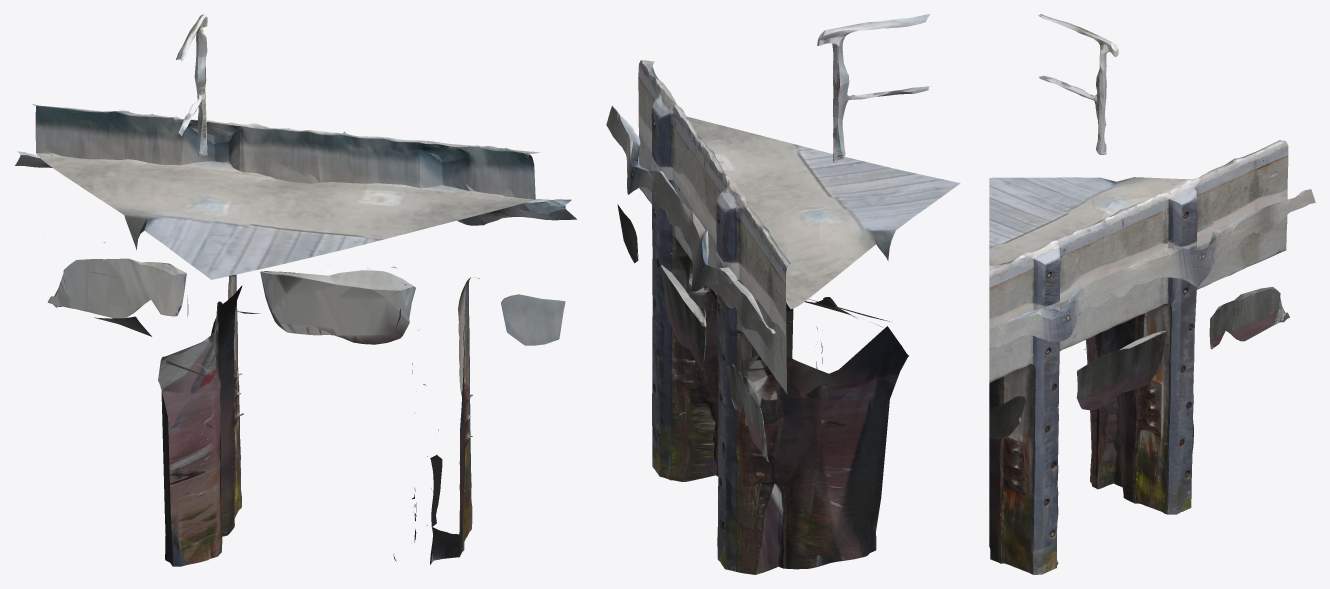
The picture shows the model from 3 angles, left to right: view 1: azimuth 30°, elevation 25°; view 2: azimuth 150°, elevation 25°; view 3: azimuth 270°, elevation 25°; orthographic projection. The views are drawn at different scales.
Size of the model in its own units: 2.86 by 4.01 by 2.67.
3 materials, 3 textured.
